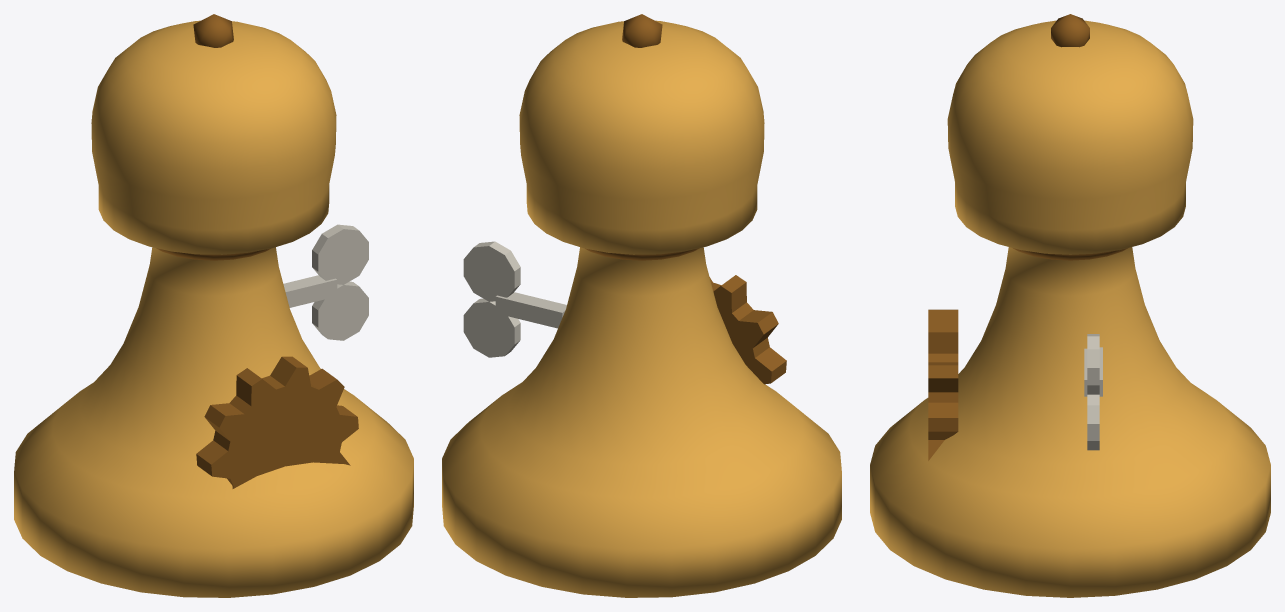
File: pawn.glb
3 views of the same model, side by side, from view 1: azimuth 30°, elevation 25°; view 2: azimuth 150°, elevation 25°; view 3: azimuth 270°, elevation 25° (orthographic).
Parts seen in each view (by area): view 1: pawn_body, pawn_gear, pawn_key, pawn_screw, pawn_trim; view 2: pawn_body, pawn_key, pawn_gear, pawn_screw, pawn_trim; view 3: pawn_body, pawn_gear, pawn_key, pawn_screw, pawn_trim.
Boxes of the visible parts, x1,y1,x2,y2 form: pawn_body: [14, 20, 413, 597]; pawn_gear: [196, 356, 358, 488]; pawn_key: [283, 224, 368, 340]; pawn_screw: [193, 14, 233, 47]; pawn_trim: [156, 248, 270, 260]; pawn_body: [442, 20, 841, 597]; pawn_key: [463, 241, 566, 357]; pawn_gear: [709, 275, 786, 384]; pawn_screw: [622, 14, 662, 47]; pawn_trim: [585, 248, 699, 260]; pawn_body: [870, 20, 1270, 597]; pawn_gear: [928, 309, 958, 460]; pawn_key: [1084, 334, 1102, 450]; pawn_screw: [1051, 14, 1089, 47]; pawn_trim: [1013, 248, 1127, 260].
Bounding box in the file's own units: 0.52 × 0.715 × 0.52.
